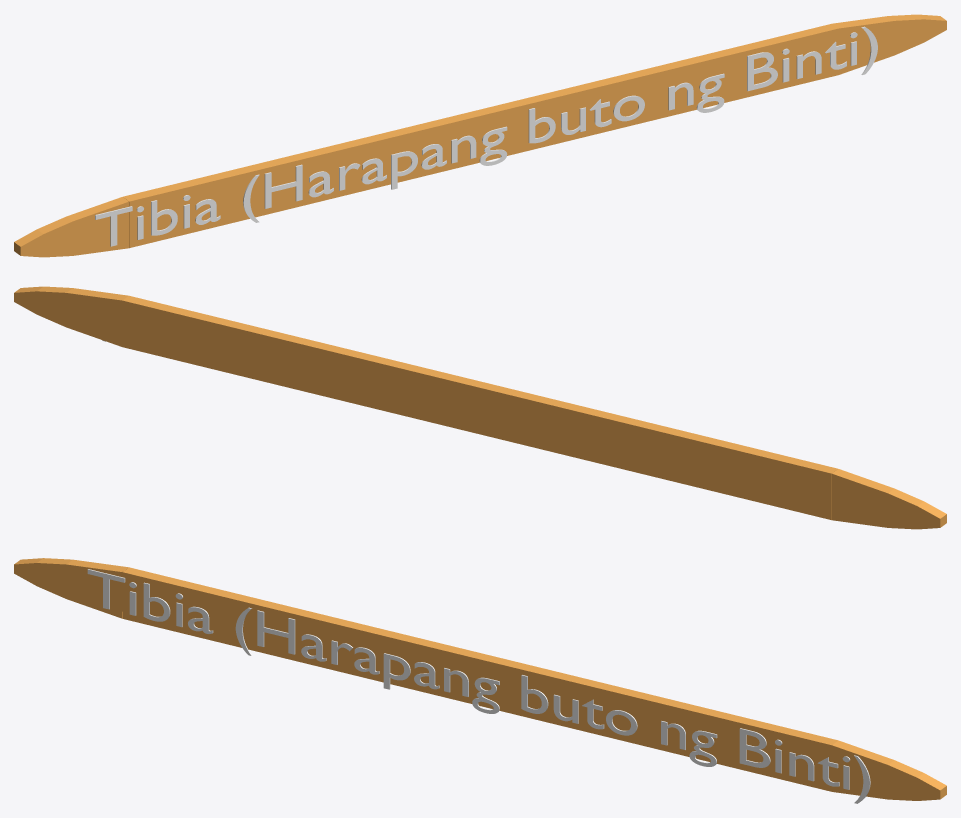
File: txtTibia.fbx
3 renders of one model, top to bottom at view 1: azimuth 30°, elevation 25°; view 2: azimuth 150°, elevation 25°; view 3: azimuth 330°, elevation 25°, orthographic.
Parts seen in each view (by area): view 1: TagContainer.054, Text.055; view 2: TagContainer.054; view 3: TagContainer.054, Text.055.
Part boxes in pixels (<box>): TagContainer.054: <box>14,14,946,257</box>; Text.055: <box>95,26,877,246</box>; TagContainer.054: <box>14,286,946,529</box>; TagContainer.054: <box>14,558,946,800</box>; Text.055: <box>87,569,870,803</box>.
Size of the model in its own units: 859 by 45.81 by 11.79.
